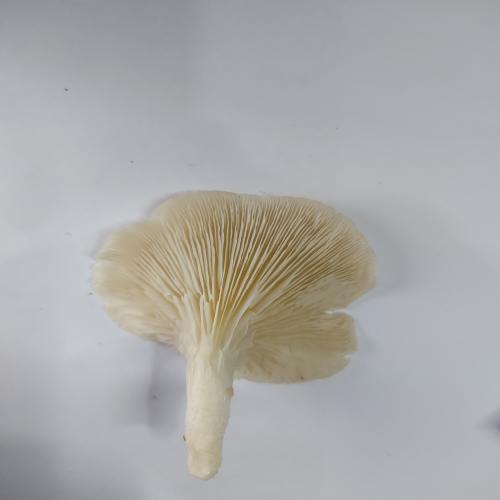Oyster Mushroom: (90, 188, 377, 481)
